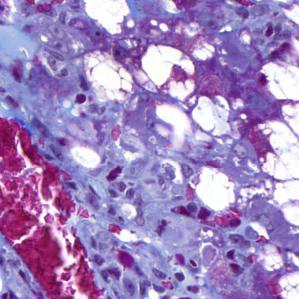ballooning: (139, 43, 200, 106), (243, 116, 296, 185), (79, 48, 137, 104)
